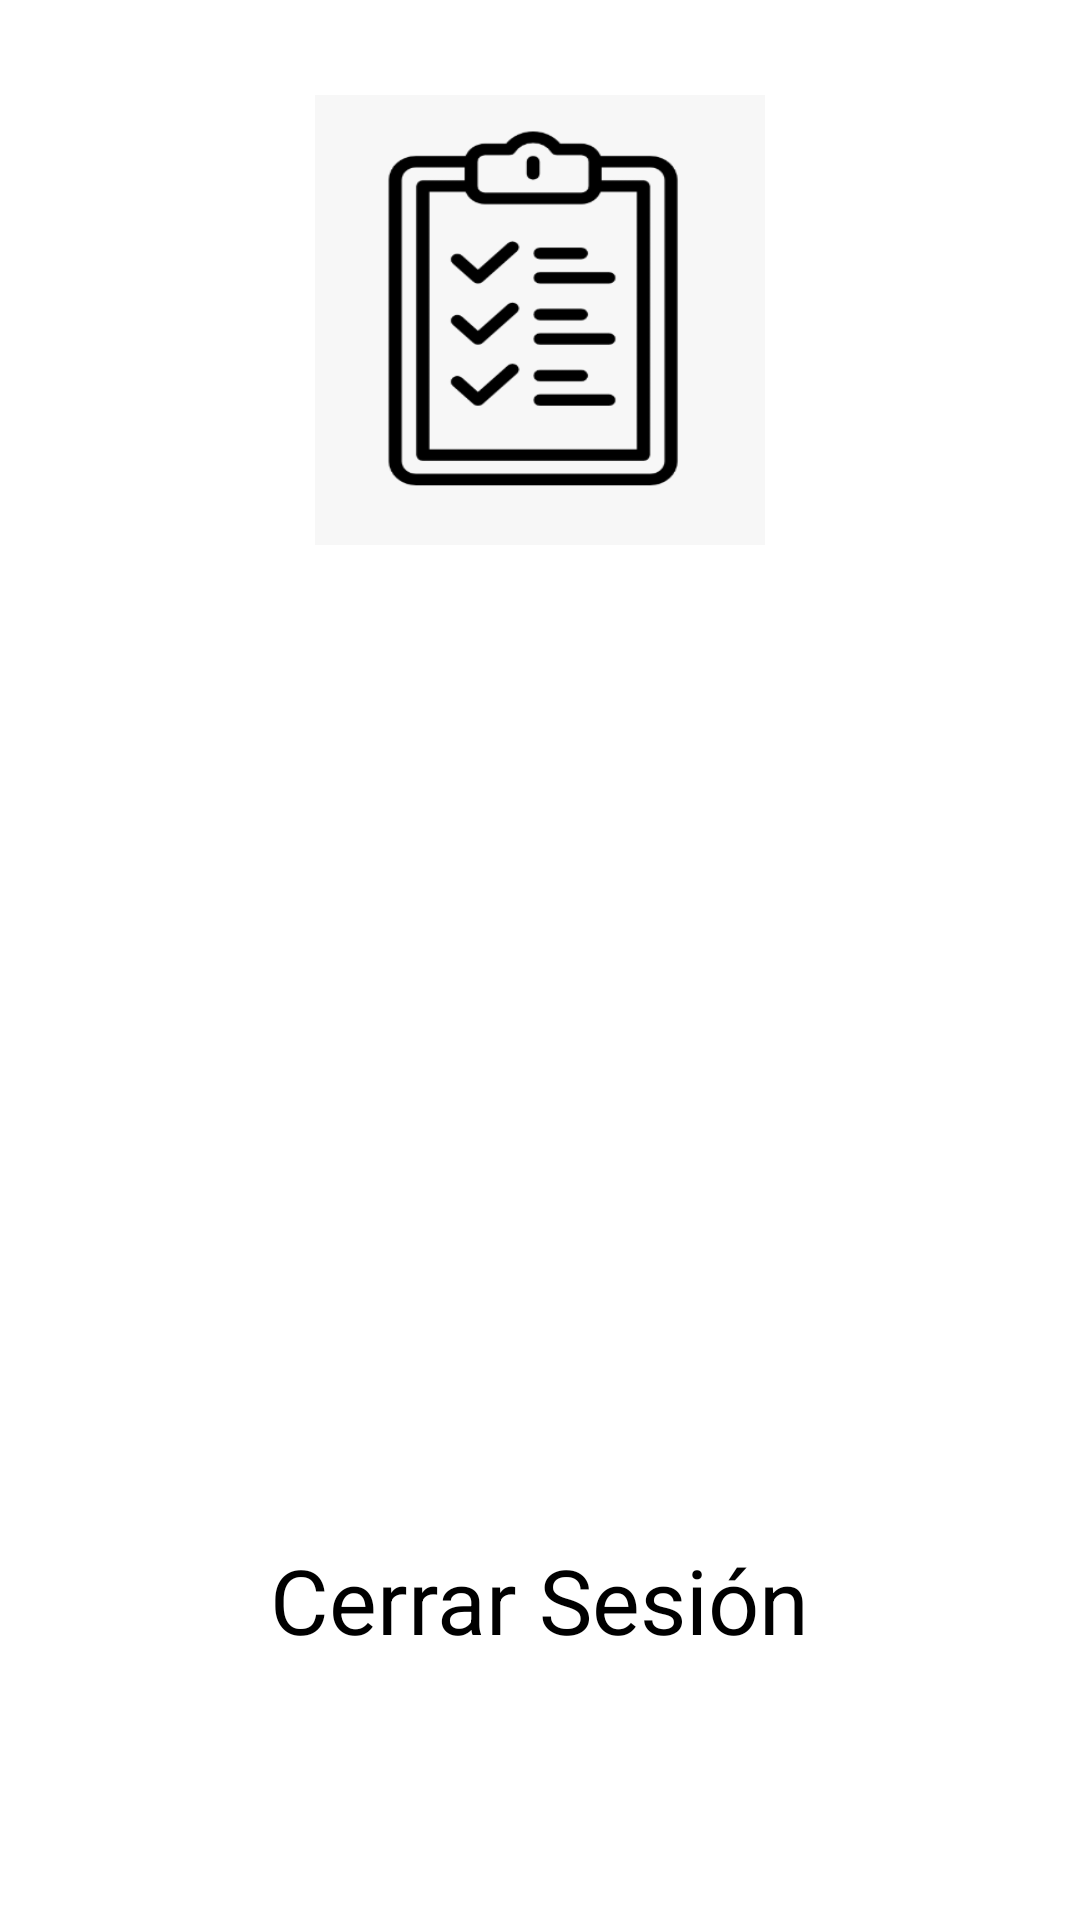

Screen size 1080px×1920px. Icon name, then its box in pixels as (x1, y1, x2, y2):
lista: (388, 131, 678, 486)
